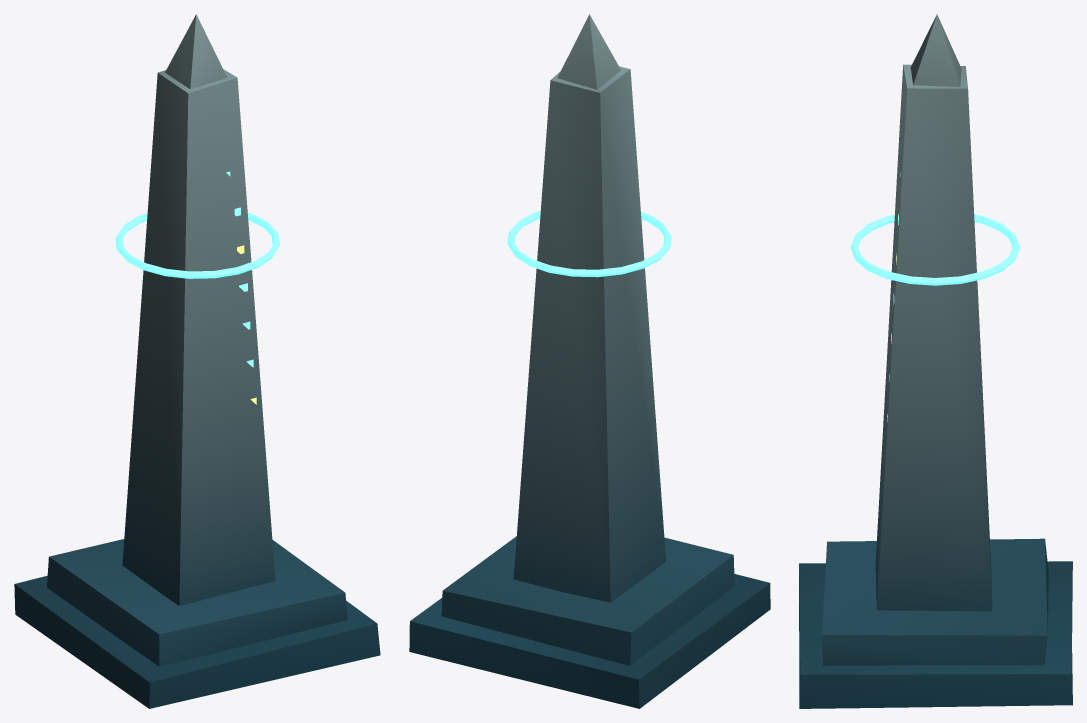
File: prop_data_obelisk.glb
3 renders of one model, left to right at view 1: azimuth 30°, elevation 25°; view 2: azimuth 150°, elevation 25°; view 3: azimuth 270°, elevation 25°, orthographic. The views are drawn at different scales.
Visible parts, largest first — view 1: prop_data_obelisk_stone, prop_data_obelisk_glow; view 2: prop_data_obelisk_stone, prop_data_obelisk_glow; view 3: prop_data_obelisk_stone, prop_data_obelisk_glow.
Boxes of the visible parts, <box> form: prop_data_obelisk_stone: <box>14,14,380,708</box>; prop_data_obelisk_glow: <box>115,171,279,367</box>; prop_data_obelisk_stone: <box>409,14,770,708</box>; prop_data_obelisk_glow: <box>507,210,671,277</box>; prop_data_obelisk_stone: <box>799,14,1072,708</box>; prop_data_obelisk_glow: <box>850,173,1020,381</box>.
Bounding box in the file's own units: 3.23 × 8.23 × 3.21.
